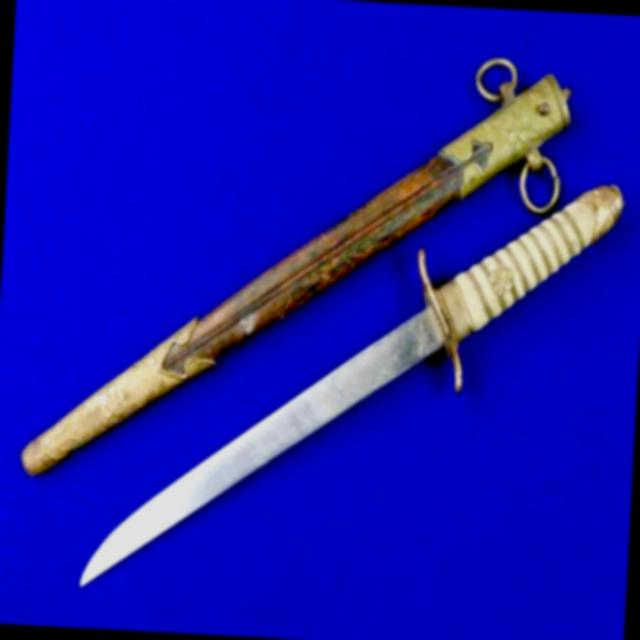short sword: (6, 21, 637, 624)
